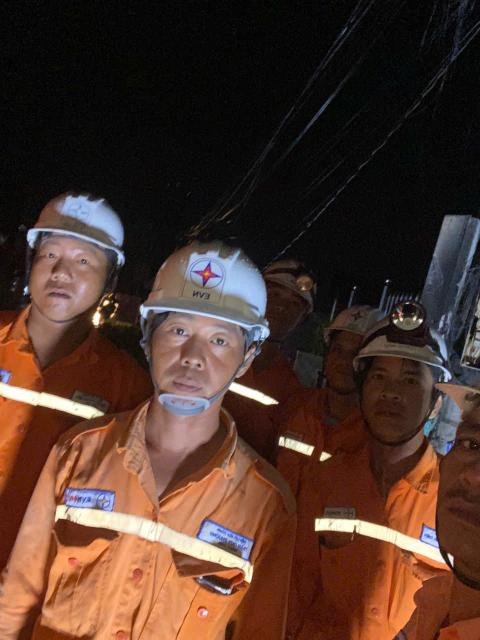helmet: (117, 212, 263, 345), (0, 168, 138, 270), (353, 296, 453, 389), (258, 241, 319, 308), (314, 298, 386, 346), (449, 345, 480, 450)
